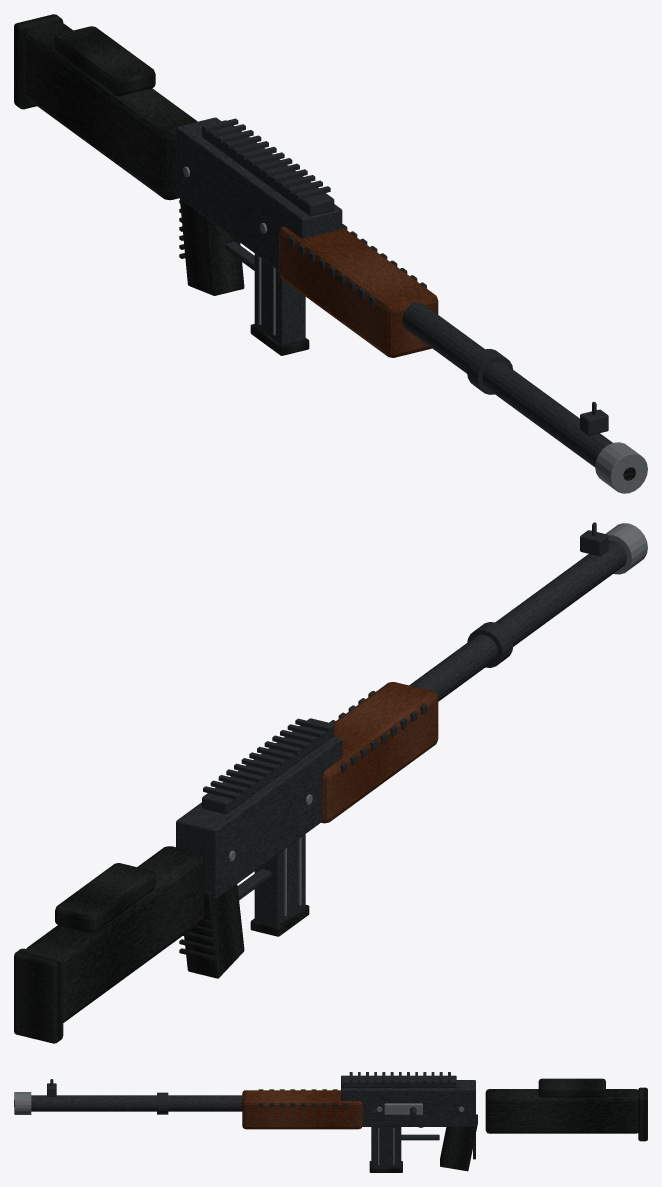
3 renders of one model, top to bottom at view 1: azimuth 30°, elevation 25°; view 2: azimuth 150°, elevation 25°; view 3: azimuth 270°, elevation 25°, orthographic. The views are drawn at different scales.
Visible parts, largest first — view 1: W_SV762_M_V14Metal, W_SV762_M_V14Polymer, W_SV762_M_V14Wood, W_SV762_Mag_M_V14Metal, W_SV762_M_V14Steel, W_SV762_Mag_M_V14Polymer; view 2: W_SV762_M_V14Metal, W_SV762_M_V14Polymer, W_SV762_M_V14Wood, W_SV762_Mag_M_V14Metal, W_SV762_M_V14Steel; view 3: W_SV762_M_V14Metal, W_SV762_M_V14Polymer, W_SV762_M_V14Wood, W_SV762_Mag_M_V14Metal, W_SV762_M_V14Steel, W_SV762_Bolt_M_V14Steel, W_SV762_Mag_M_V14Polymer.
Part boxes in pixels (x1,y1,x2,y2): W_SV762_M_V14Metal: [176, 117, 612, 466]; W_SV762_M_V14Polymer: [14, 14, 635, 480]; W_SV762_M_V14Wood: [279, 226, 438, 357]; W_SV762_Mag_M_V14Metal: [254, 253, 305, 344]; W_SV762_M_V14Steel: [183, 166, 647, 493]; W_SV762_Mag_M_V14Polymer: [250, 324, 309, 355]; W_SV762_M_V14Metal: [176, 522, 626, 900]; W_SV762_M_V14Polymer: [14, 846, 244, 1043]; W_SV762_M_V14Wood: [321, 682, 438, 823]; W_SV762_Mag_M_V14Metal: [254, 834, 305, 925]; W_SV762_M_V14Steel: [228, 523, 647, 861]; W_SV762_M_V14Metal: [31, 1072, 475, 1140]; W_SV762_M_V14Polymer: [14, 1078, 647, 1171]; W_SV762_M_V14Wood: [242, 1090, 362, 1129]; W_SV762_Mag_M_V14Metal: [371, 1127, 401, 1167]; W_SV762_M_V14Steel: [14, 1092, 464, 1127]; W_SV762_Bolt_M_V14Steel: [384, 1103, 422, 1114]; W_SV762_Mag_M_V14Polymer: [369, 1161, 402, 1172].
Bounding box in the file's own units: 9 × 21.35 × 132.
